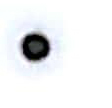cancer: (4, 15, 78, 81)
